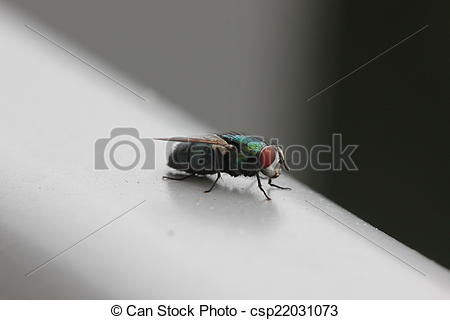green bottles flies: (156, 108, 296, 211)
